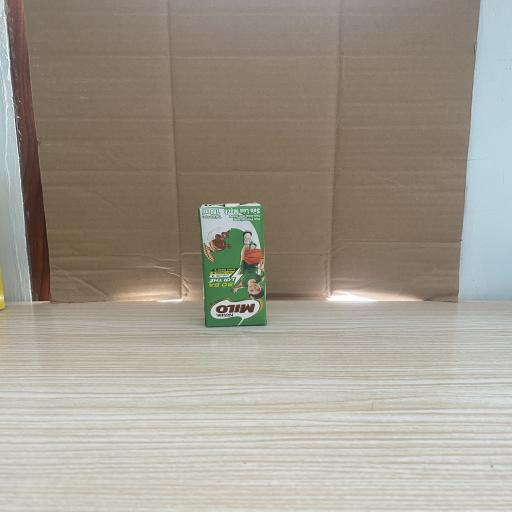milo: (202, 204, 264, 326)
